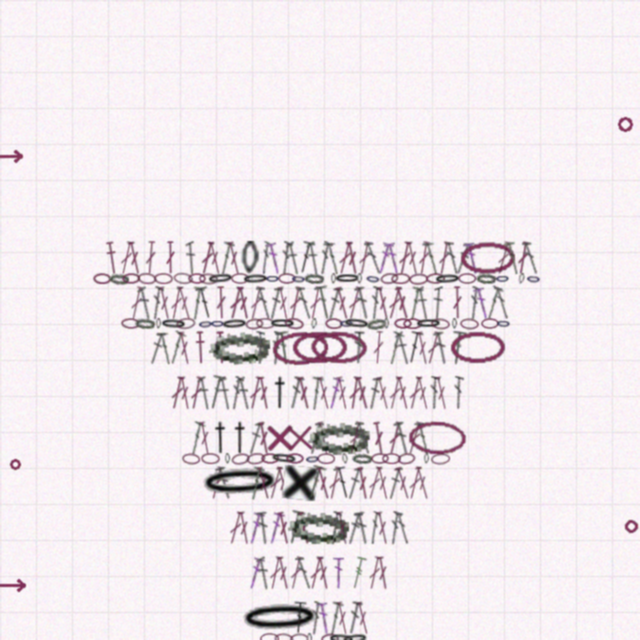chain: (198, 464, 282, 501), (238, 600, 322, 636), (208, 329, 271, 366), (308, 420, 370, 456), (271, 330, 329, 366), (408, 420, 467, 455), (288, 511, 349, 544), (310, 330, 367, 365), (460, 241, 516, 275), (292, 331, 348, 364), (450, 331, 506, 364), (241, 241, 259, 274), (270, 452, 298, 465), (343, 317, 370, 330), (207, 272, 234, 285), (160, 318, 187, 330), (221, 318, 248, 330), (242, 273, 269, 285), (434, 273, 461, 285), (269, 318, 296, 329), (415, 318, 442, 329), (334, 273, 361, 284), (366, 317, 387, 331), (231, 452, 250, 466), (246, 452, 266, 465), (176, 317, 196, 330), (284, 317, 304, 330), (137, 272, 157, 285), (173, 272, 193, 285), (397, 452, 416, 465), (380, 272, 399, 285), (109, 273, 129, 285), (431, 453, 450, 465), (245, 318, 264, 330), (431, 318, 450, 330), (460, 318, 479, 330), (199, 273, 218, 285), (409, 273, 428, 285), (341, 632, 369, 640), (352, 453, 372, 464), (135, 318, 155, 329), (304, 273, 324, 284), (476, 273, 496, 284), (182, 453, 200, 465), (201, 453, 220, 464), (382, 453, 401, 464), (121, 318, 140, 329), (256, 318, 275, 329), (403, 318, 422, 329), (154, 273, 173, 284), (391, 273, 410, 284), (426, 273, 445, 284), (261, 453, 279, 464), (286, 453, 304, 464), (317, 453, 335, 464), (371, 453, 389, 464), (325, 318, 343, 329), (394, 318, 412, 329), (481, 318, 499, 329), (93, 273, 111, 284), (122, 273, 140, 284), (188, 273, 206, 284), (231, 273, 249, 284), (278, 273, 296, 284), (458, 273, 476, 284), (365, 273, 381, 285), (328, 633, 355, 640), (305, 453, 320, 465), (198, 318, 213, 330), (291, 273, 306, 285), (526, 273, 541, 285), (210, 318, 225, 329), (339, 318, 354, 329), (496, 318, 511, 329), (265, 273, 280, 284), (495, 273, 510, 284), (274, 633, 294, 640), (260, 633, 279, 640), (290, 633, 308, 640), (321, 633, 339, 640), (518, 273, 525, 284), (342, 453, 348, 464), (311, 318, 317, 329), (225, 453, 230, 464), (424, 453, 429, 464), (156, 318, 161, 329), (384, 318, 389, 329), (452, 318, 457, 329), (331, 273, 336, 284), (357, 273, 362, 284), (307, 633, 312, 640)
double: (304, 465, 327, 500), (285, 510, 306, 545), (206, 375, 227, 410), (166, 330, 187, 365), (483, 285, 504, 320), (333, 465, 353, 500), (195, 285, 215, 320), (314, 285, 334, 320), (296, 240, 316, 275), (393, 466, 413, 500), (385, 331, 405, 365), (405, 330, 424, 365), (325, 601, 344, 635), (246, 556, 265, 590), (226, 511, 245, 545), (246, 511, 265, 545), (266, 511, 285, 545), (215, 466, 234, 500), (246, 466, 265, 500), (254, 466, 273, 500), (266, 466, 285, 500), (274, 466, 293, 500), (314, 466, 333, 500), (365, 466, 384, 500), (413, 466, 432, 500), (187, 421, 206, 455), (393, 421, 412, 455), (405, 421, 424, 455), (353, 376, 372, 410), (424, 331, 443, 365), (175, 286, 194, 320), (333, 286, 352, 320), (345, 286, 364, 320), (385, 286, 404, 320), (393, 286, 412, 320), (405, 286, 424, 320), (216, 241, 235, 275), (323, 241, 342, 275), (375, 241, 394, 275), (422, 241, 441, 275), (454, 241, 473, 275), (494, 241, 513, 275), (354, 601, 372, 635), (287, 556, 305, 590), (307, 556, 325, 590), (295, 511, 313, 545), (208, 466, 226, 500), (374, 466, 392, 500), (406, 466, 424, 500), (346, 421, 364, 455), (386, 421, 404, 455), (414, 421, 432, 455), (168, 376, 186, 410), (287, 376, 305, 410), (295, 376, 313, 410), (315, 376, 333, 410), (326, 376, 344, 410), (374, 376, 392, 410), (386, 376, 404, 410), (394, 376, 412, 410), (406, 376, 424, 410), (414, 376, 432, 410), (148, 331, 166, 365), (156, 331, 174, 365), (275, 331, 293, 365), (394, 331, 412, 365), (449, 331, 467, 365), (227, 286, 245, 320), (247, 286, 265, 320), (354, 286, 372, 320), (374, 286, 392, 320), (473, 286, 491, 320), (198, 241, 216, 275), (206, 241, 224, 275), (225, 241, 243, 275), (265, 241, 283, 275), (336, 241, 354, 275), (364, 241, 382, 275), (384, 241, 402, 275), (463, 241, 481, 275), (503, 241, 521, 275), (334, 601, 351, 635), (346, 601, 363, 635), (267, 556, 284, 590), (275, 556, 292, 590), (295, 556, 312, 590), (315, 556, 332, 590), (366, 556, 383, 590), (275, 511, 292, 545), (334, 511, 351, 545), (346, 511, 363, 545), (354, 511, 371, 545), (374, 511, 391, 545), (326, 466, 343, 500), (346, 466, 363, 500), (247, 421, 264, 455), (315, 421, 332, 455), (188, 376, 205, 410), (247, 376, 264, 410), (307, 376, 324, 410), (334, 376, 351, 410), (433, 376, 450, 410), (176, 331, 193, 365), (414, 331, 431, 365), (433, 331, 450, 365), (128, 286, 145, 320), (156, 286, 173, 320), (168, 286, 185, 320), (188, 286, 205, 320), (235, 286, 252, 320), (275, 286, 292, 320), (287, 286, 304, 320), (307, 286, 324, 320), (326, 286, 343, 320), (118, 241, 135, 275), (126, 241, 143, 275), (285, 241, 302, 275), (316, 241, 333, 275), (344, 241, 361, 275), (356, 241, 373, 275), (396, 241, 413, 275), (404, 241, 421, 275), (522, 241, 539, 275), (316, 601, 332, 635), (375, 556, 391, 590), (236, 511, 252, 545), (355, 466, 371, 500), (387, 466, 403, 500), (197, 421, 213, 455), (256, 421, 272, 455), (308, 421, 324, 455), (355, 421, 371, 455), (371, 421, 387, 455), (177, 376, 193, 410), (217, 376, 233, 410), (228, 376, 244, 410), (236, 376, 252, 410), (256, 376, 272, 410), (137, 286, 153, 320), (296, 286, 312, 320), (415, 286, 431, 320), (416, 241, 432, 275), (436, 241, 452, 275), (515, 241, 531, 275), (494, 286, 510, 319), (308, 601, 323, 635), (256, 556, 271, 590), (256, 511, 271, 545), (327, 511, 342, 545), (387, 511, 402, 545), (197, 376, 212, 410), (347, 376, 362, 410), (367, 376, 382, 410), (149, 286, 164, 320), (256, 286, 271, 320), (268, 286, 283, 320), (278, 241, 293, 275), (306, 241, 321, 275), (292, 601, 307, 634), (395, 511, 410, 544), (269, 331, 283, 365), (368, 286, 382, 320), (467, 286, 481, 320), (445, 241, 459, 275), (368, 511, 381, 544), (372, 331, 385, 364), (144, 241, 157, 274), (259, 241, 272, 274), (428, 376, 440, 409), (452, 376, 464, 409), (353, 331, 365, 364), (215, 286, 227, 319), (185, 241, 197, 274), (333, 556, 344, 589), (254, 331, 265, 364), (452, 286, 463, 319), (165, 241, 176, 274), (433, 286, 443, 319)
half_double: (230, 421, 250, 454), (270, 376, 290, 409), (211, 421, 230, 454), (104, 241, 120, 275), (214, 331, 228, 364), (194, 331, 207, 364)
noise: (0, 578, 28, 592), (616, 115, 635, 134), (0, 150, 25, 163), (623, 518, 639, 534), (9, 458, 21, 470)
single: (282, 465, 318, 501), (283, 421, 317, 455), (263, 421, 296, 454)
treble: (349, 556, 368, 590)
